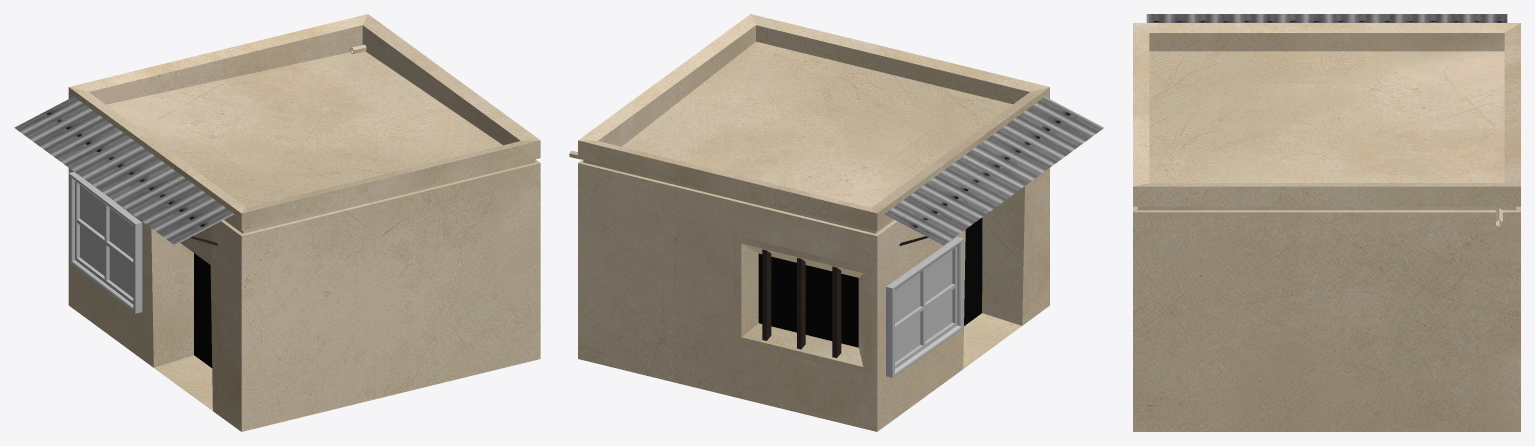
Rendered from FlatRoofHouse1.fbx.
The picture shows the model from 3 angles, left to right: view 1: azimuth 30°, elevation 25°; view 2: azimuth 150°, elevation 25°; view 3: azimuth 270°, elevation 25°; orthographic projection. The views are drawn at different scales.
Parts seen in each view (by area): view 1: polySurface2; view 2: polySurface2; view 3: polySurface2.
Part boxes in pixels (bbox=[...]): polySurface2: bbox=[14, 14, 540, 431]; polySurface2: bbox=[569, 14, 1103, 431]; polySurface2: bbox=[1133, 14, 1520, 431].
Size of the model in its own units: 19.78 by 10.98 by 15.73.
